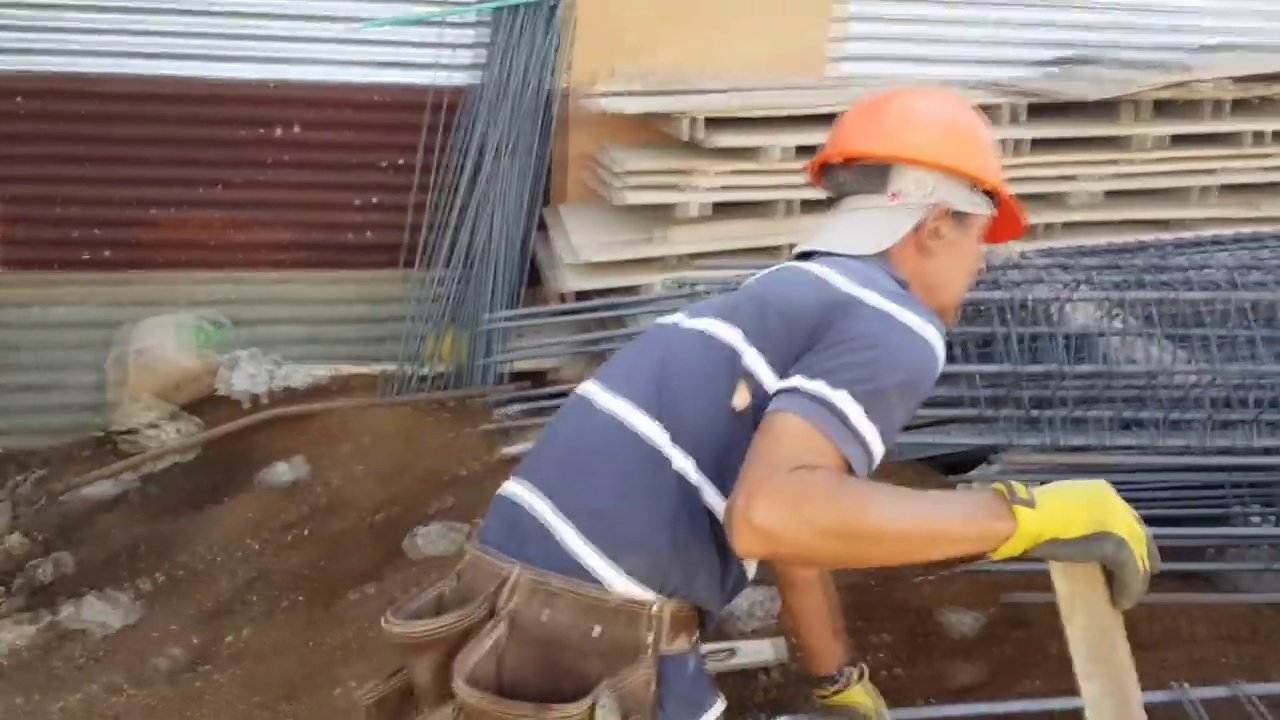helmet: (805, 81, 1028, 242)
helmet-on: (800, 75, 1028, 327)
person: (378, 75, 1164, 712)
